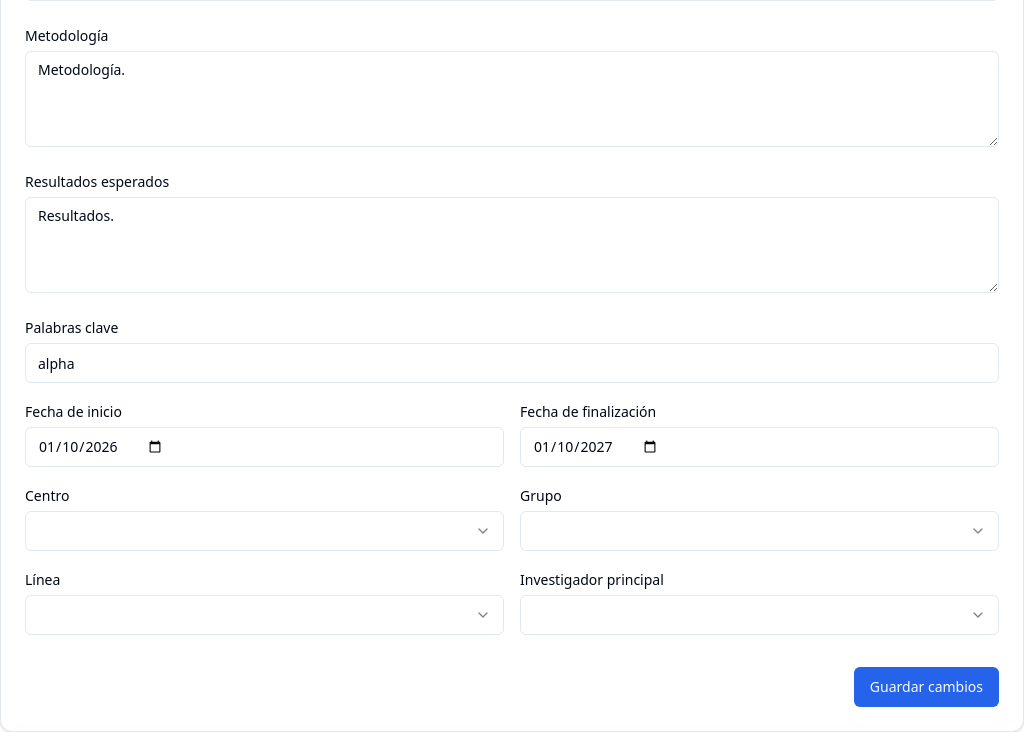
Test: ProjectForm — zod validation › rejects an end date before the start date and does not PATCH
The image size is (1024, 732).
(page scrolled)
Type "2025-01-01" into the date field named "fecha de finalización".
click(760, 447); type("2025-01-01")  # box [520,427,999,467]
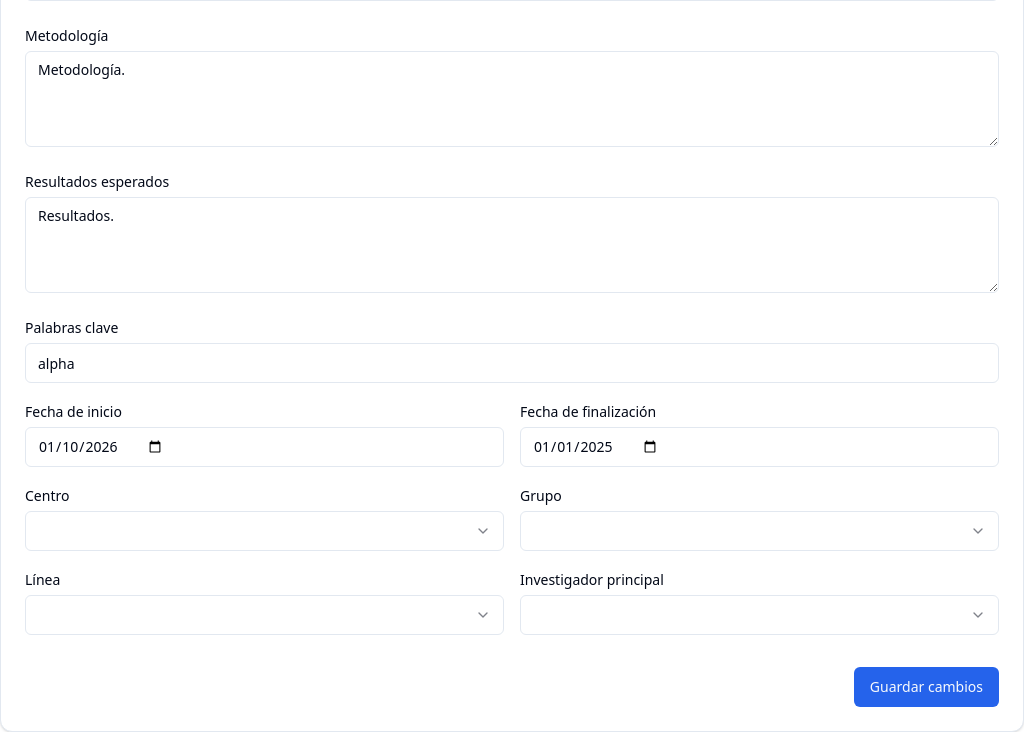
Click the button "Guardar cambios".
click(926, 687)  # box [854,667,999,707]
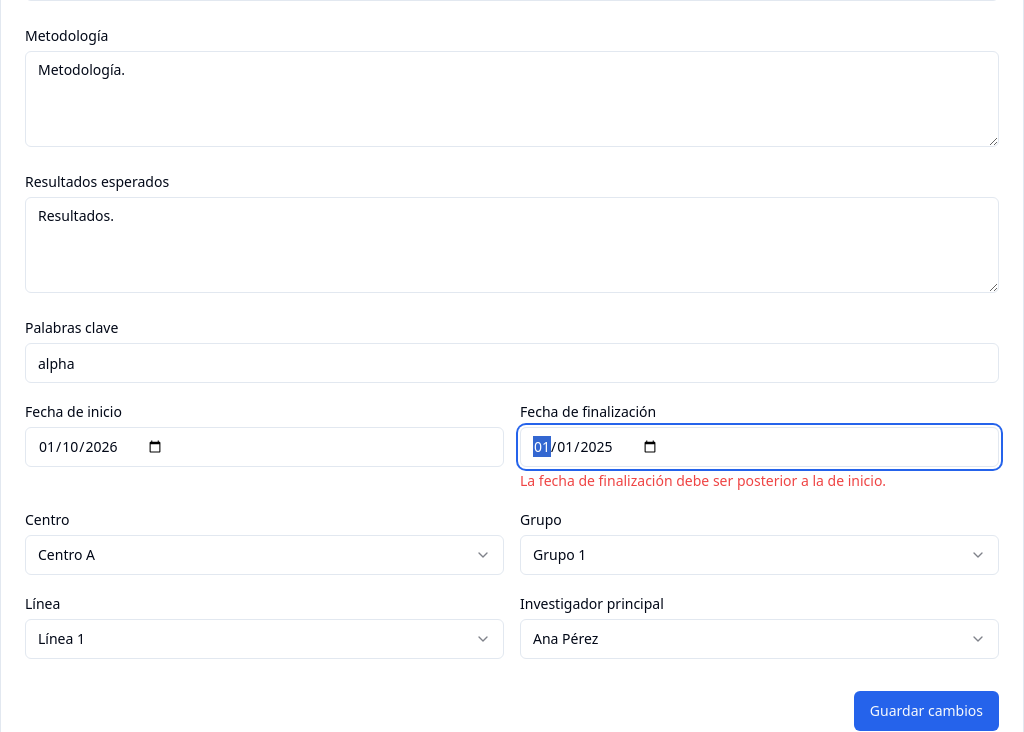
Expected: the text "La fecha de finalización debe ser posterior a la de inicio." is shown, [520,471,886,490]
